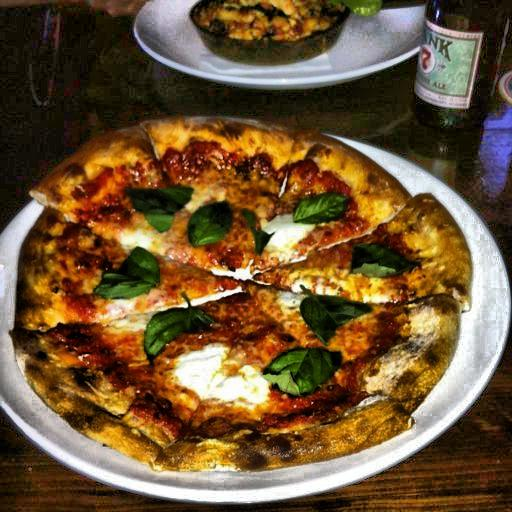pizza: (25, 121, 481, 468)
